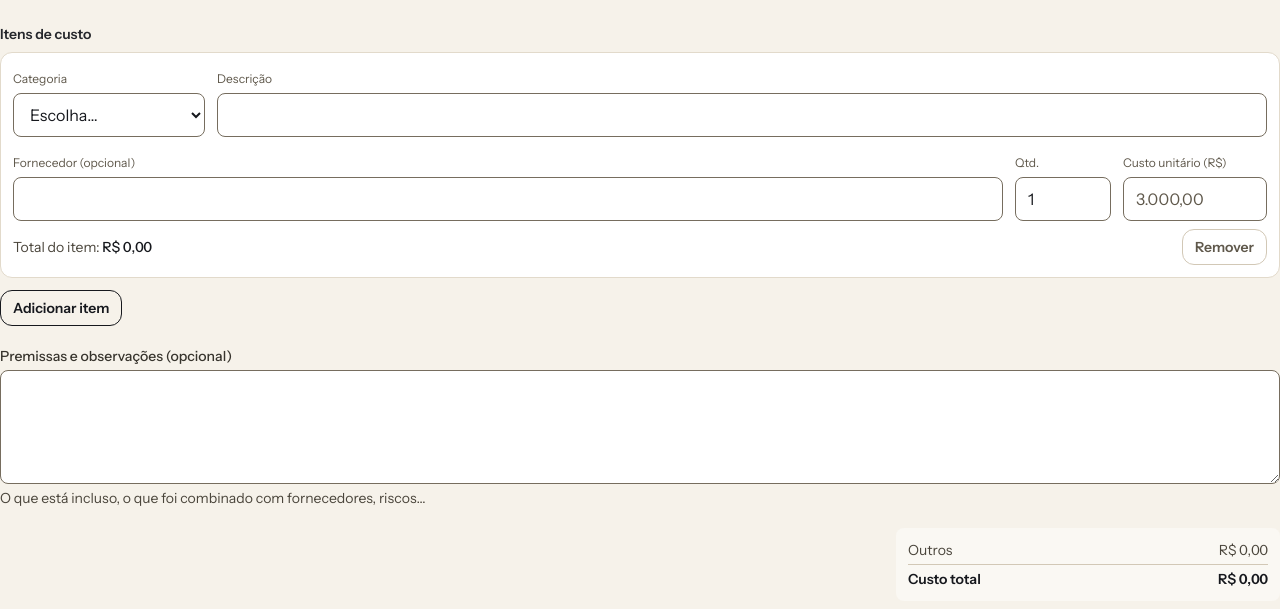
Scenario: BudgetForm — montar › adicionar e remover itens; o último item não se remove
The image size is (1280, 609).
Expected: the button with aria-label "Remover item 1" is disabled, x1=1182 y1=229 x2=1267 y2=265
Click the button "Adicionar item": [61, 308] box x1=0 y1=290 x2=122 y2=326
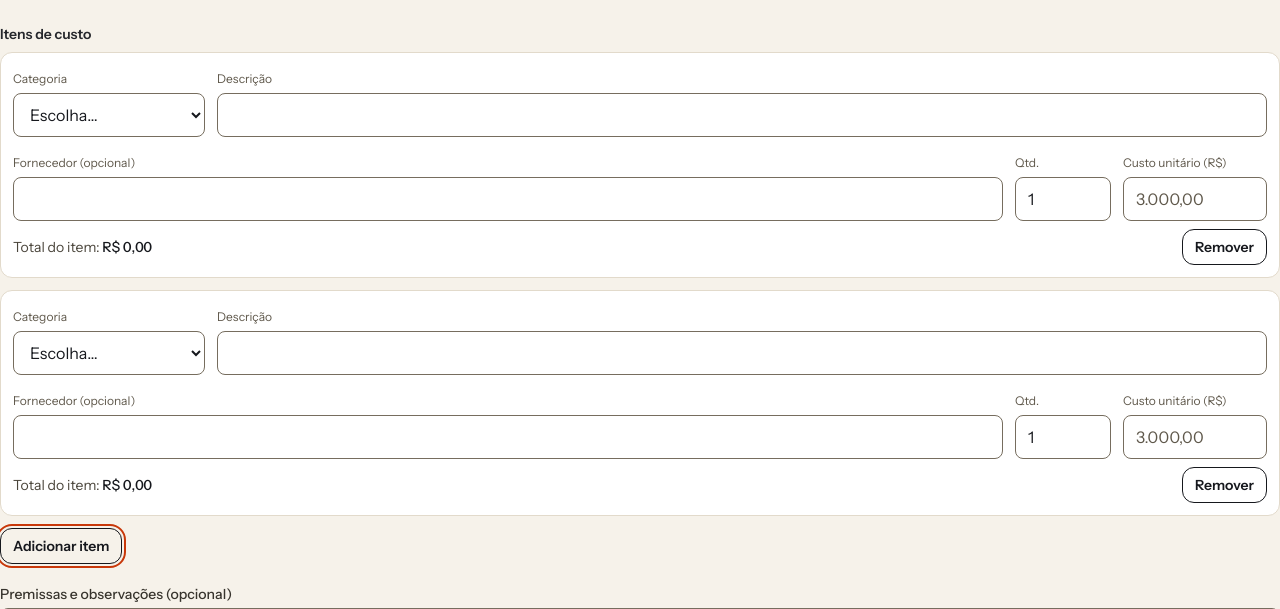
In the field named "Descrição do item 2": [742, 353] box x1=217 y1=331 x2=1267 y2=375, type "Segundo"
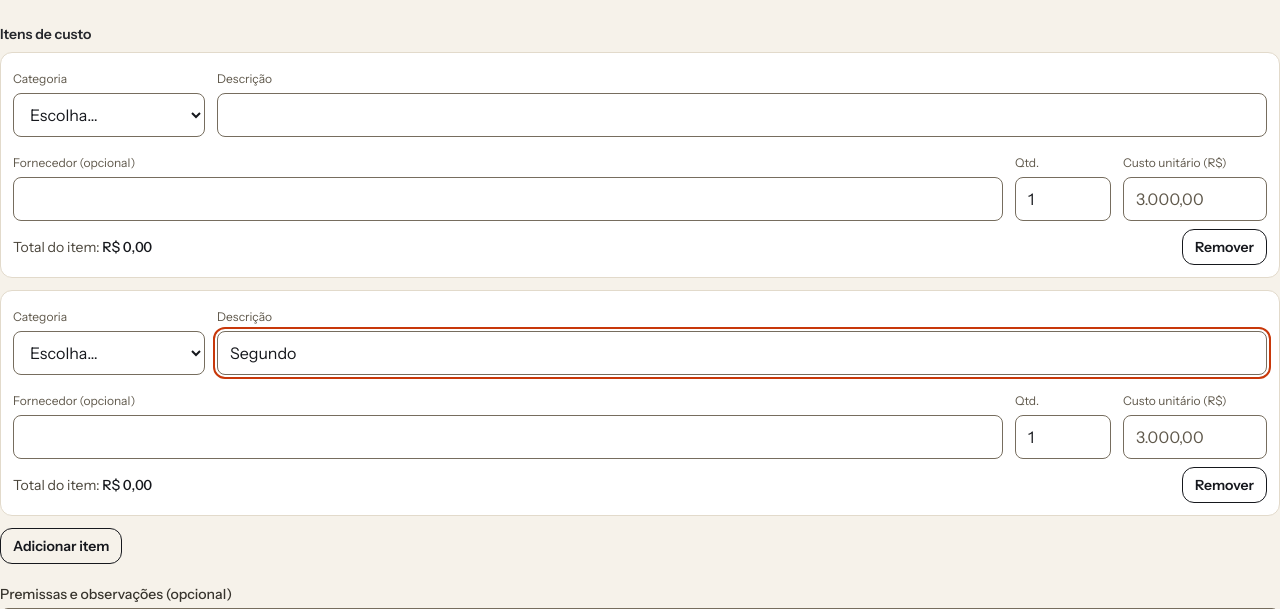
Click the button with aria-label "Remover item 1": [1224, 247] box x1=1182 y1=229 x2=1267 y2=265
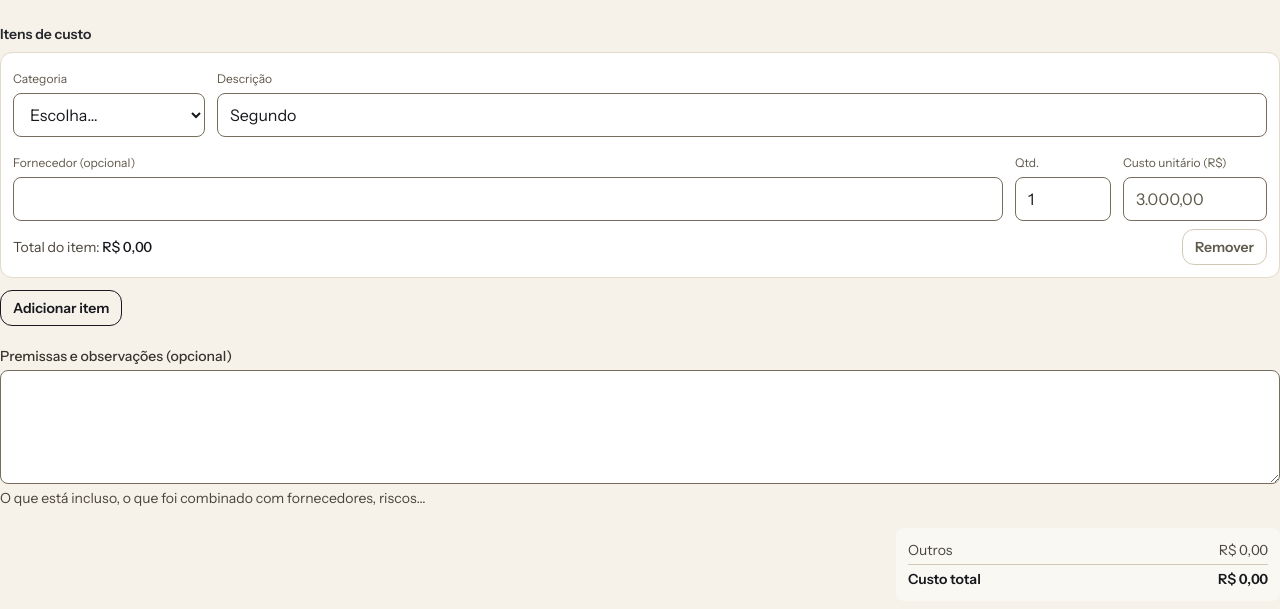
Expected: the number of list items with test id "budget-form-row" is 1, x1=0 y1=52 x2=1279 y2=278
